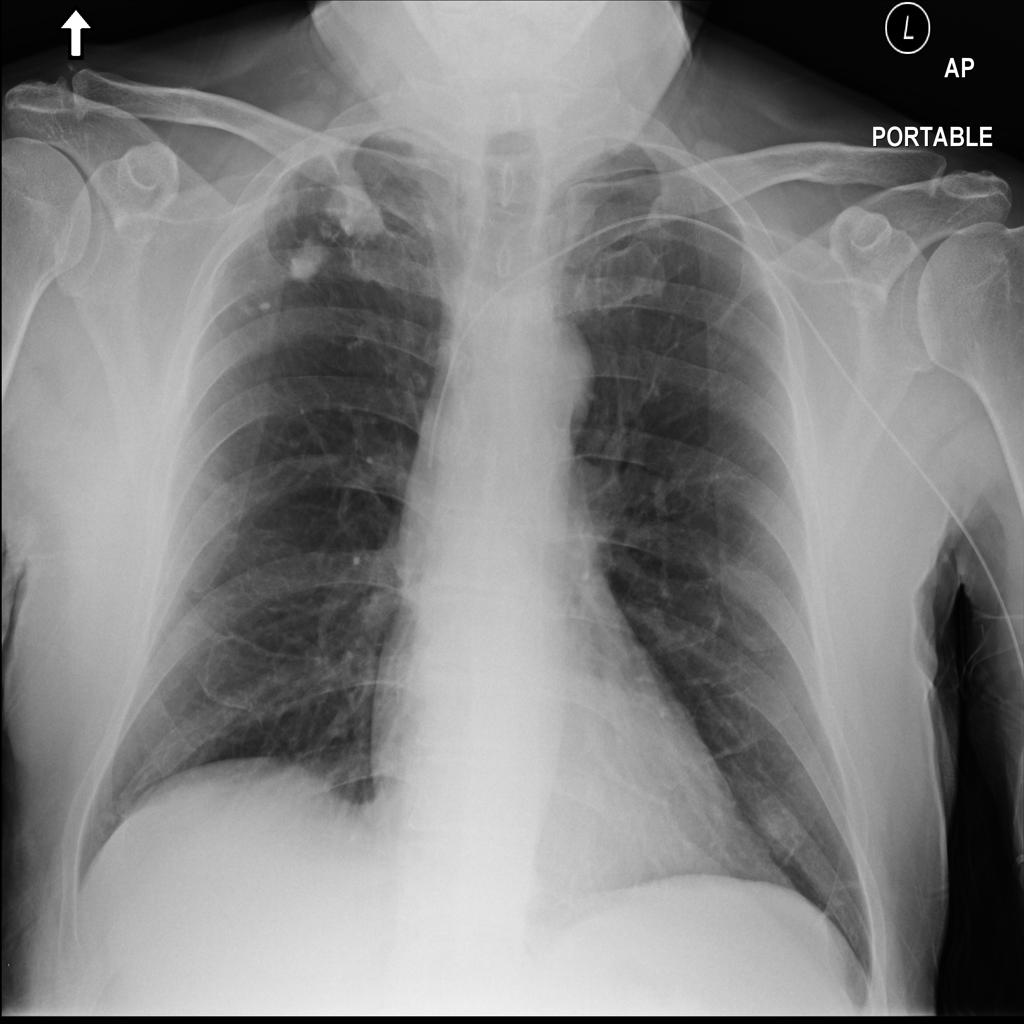nodule: (315, 170, 392, 250), (740, 787, 811, 863), (276, 224, 343, 297)
